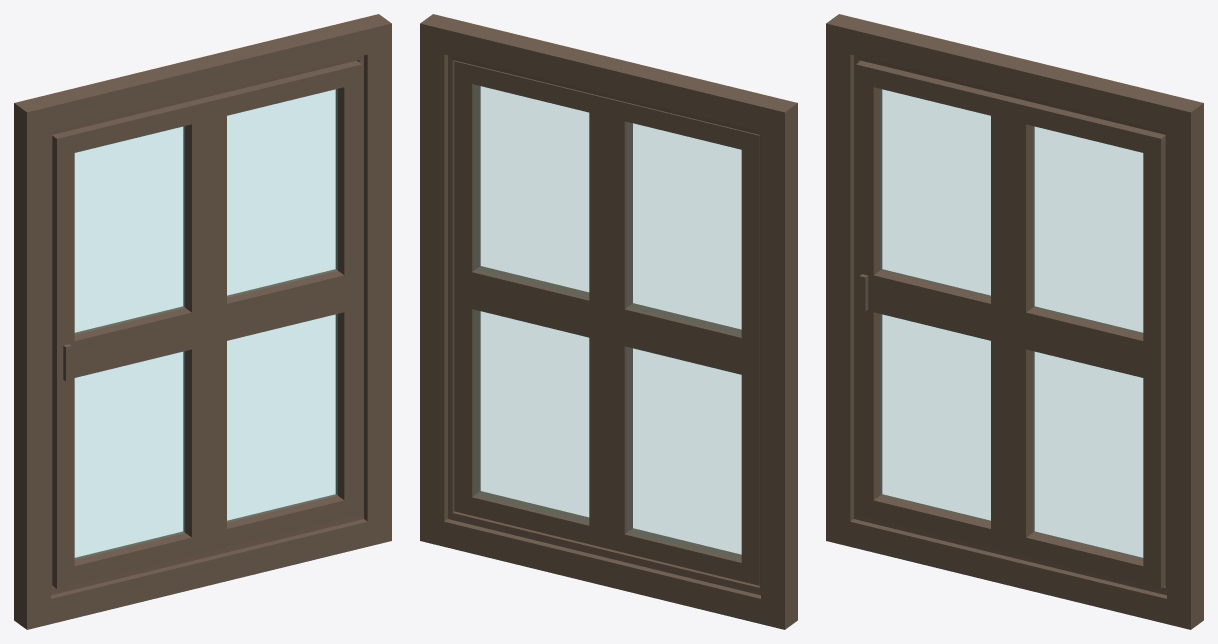
Rendered from ventana.fbx.
3 views of the same model, side by side, from view 1: azimuth 30°, elevation 25°; view 2: azimuth 150°, elevation 25°; view 3: azimuth 330°, elevation 25° (orthographic).
Parts seen in each view (by area): view 1: Cube.001, Cube; view 2: Cube.001, Cube; view 3: Cube.001, Cube.
Boxes of the visible parts, x1,y1,x2,y2 form: Cube.001: [52, 60, 361, 588]; Cube: [14, 14, 391, 629]; Cube.001: [454, 60, 759, 585]; Cube: [420, 14, 797, 629]; Cube.001: [856, 60, 1165, 588]; Cube: [826, 14, 1203, 629].
Size of the model in its own units: 125 by 170 by 9.33.
